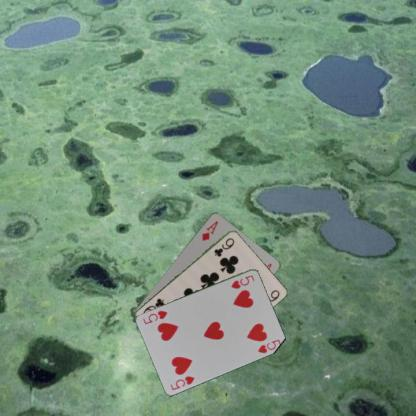5h: (167, 373, 196, 391), (228, 272, 256, 290)
9c: (211, 235, 236, 258)
Ad: (200, 218, 220, 242)
